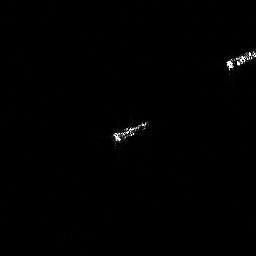ship: (112, 119, 150, 147), (225, 46, 256, 72)
